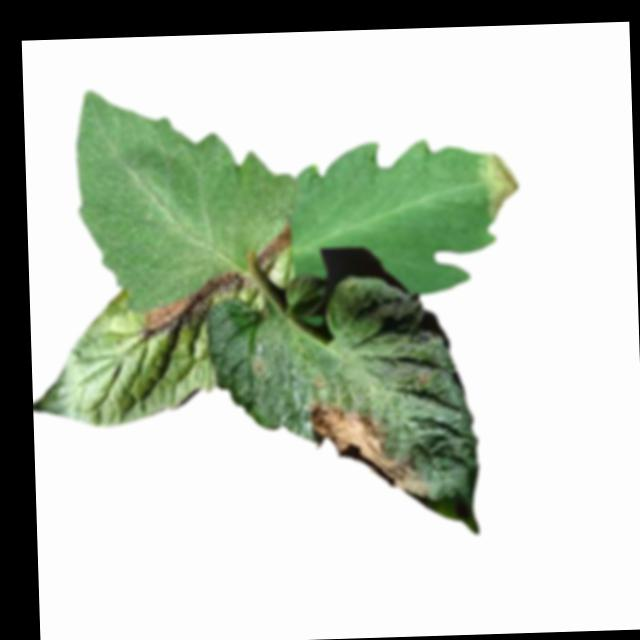Late_blight: (307, 397, 426, 502), (141, 271, 249, 334), (483, 151, 520, 222), (257, 222, 291, 266)
healthy: (71, 83, 300, 308)
